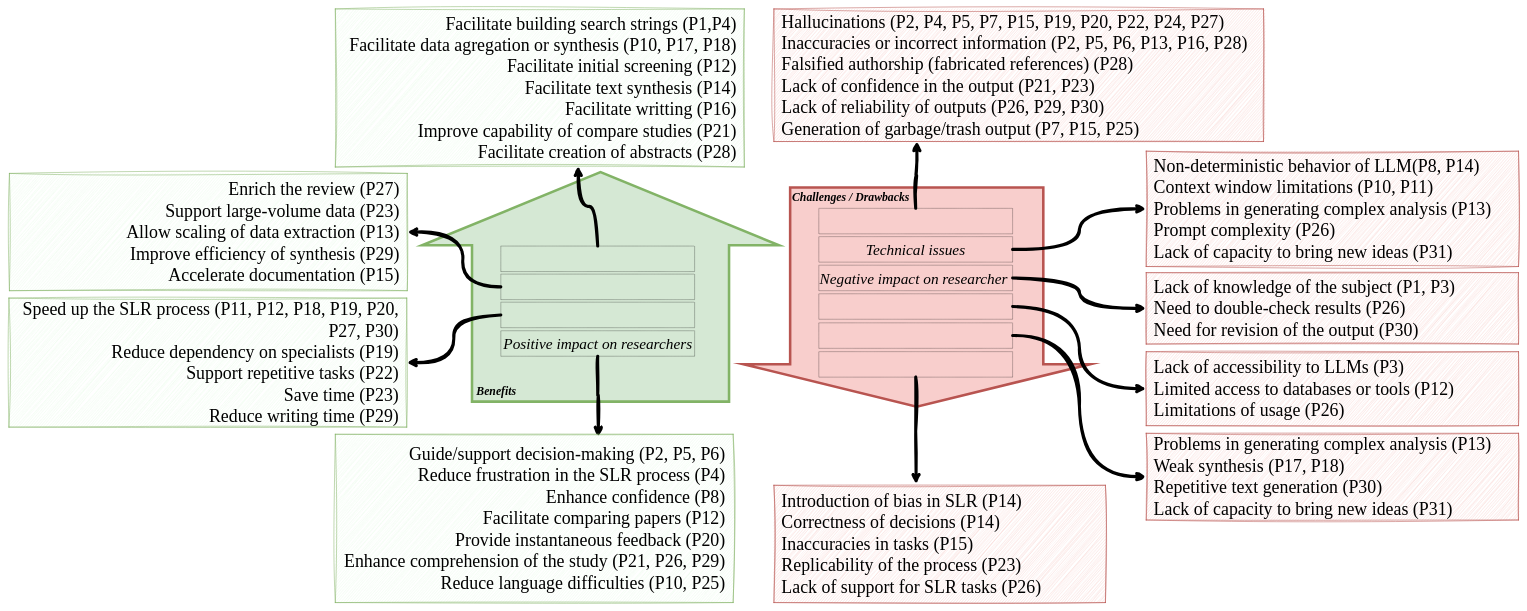
Some shapes in this 1527 by 611 pixel diagram are drawn without their labels. The box of each missing label's shape, as (x1, y1, x2, y2) in pixels:
Boost SLR capacities: (500, 274, 695, 300)
Confidence issues: (818, 208, 1013, 234)
Economic issues: (818, 293, 1013, 319)
Facilitate SLR tasks: (500, 246, 695, 272)
Impact the SLR process: (818, 351, 1013, 377)
Poor output: (818, 322, 1013, 348)
Support saving resources: (500, 302, 695, 328)
